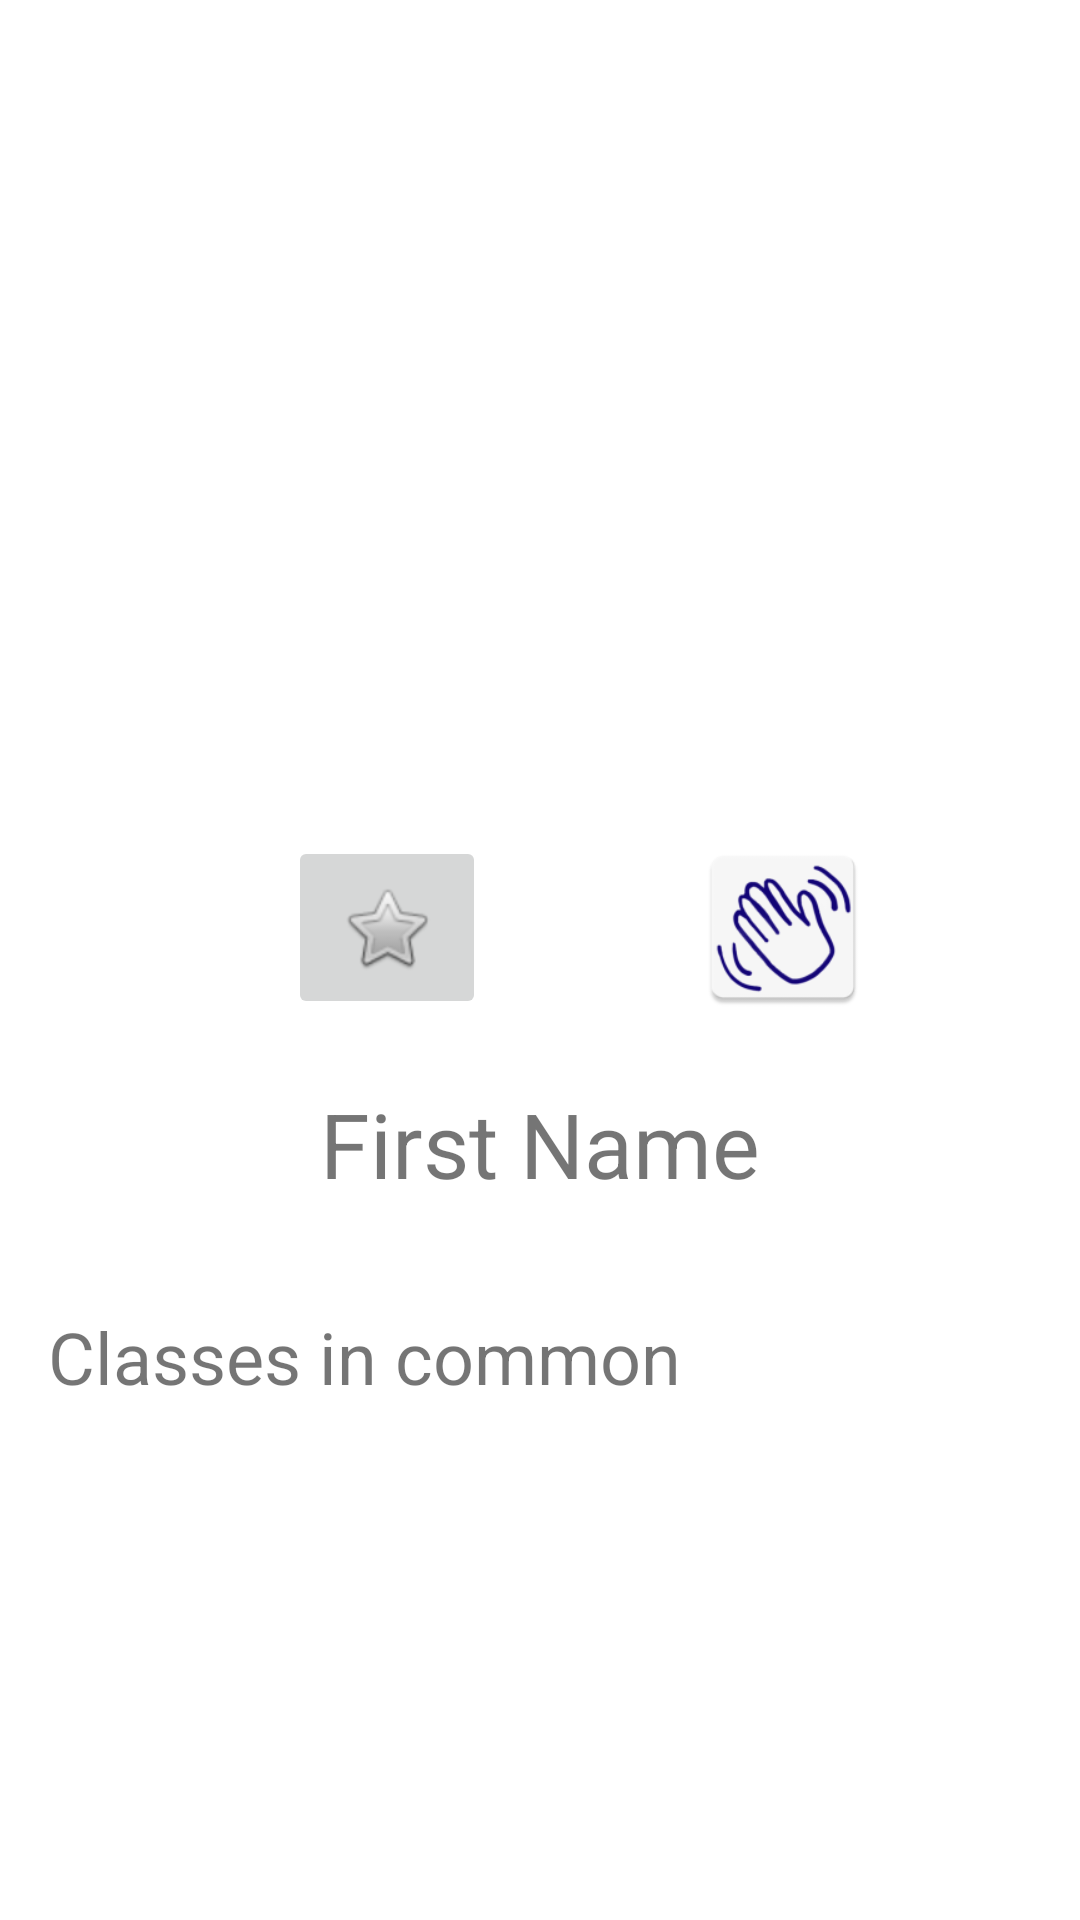

Icons on this 1080w x 1920h Android screen, each with its box as Rect(x1, y1, x2, y2):
empty wave: Rect(710, 858, 856, 1004)
star off: Rect(300, 854, 474, 1001)
